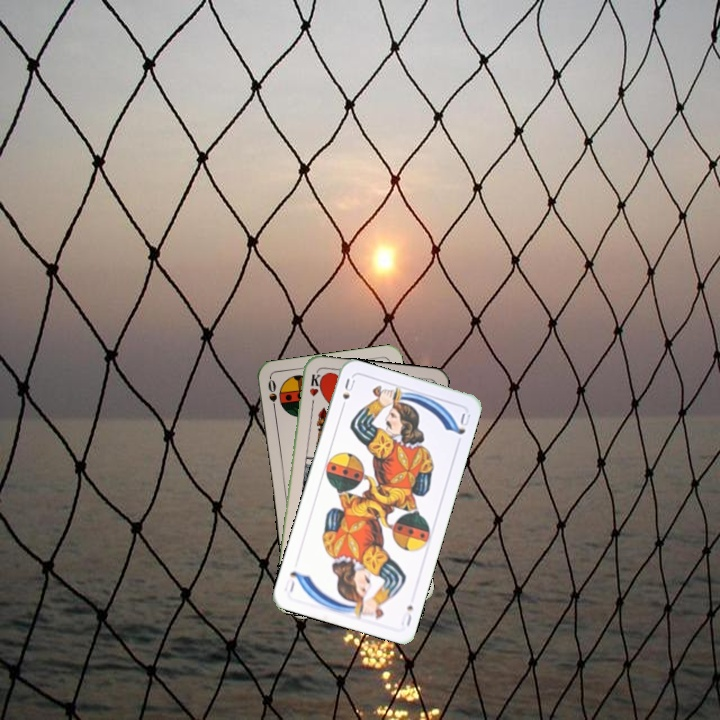HK: (305, 370, 323, 410)
SO: (264, 375, 279, 416)
SU: (337, 374, 358, 413), (397, 601, 416, 629)
